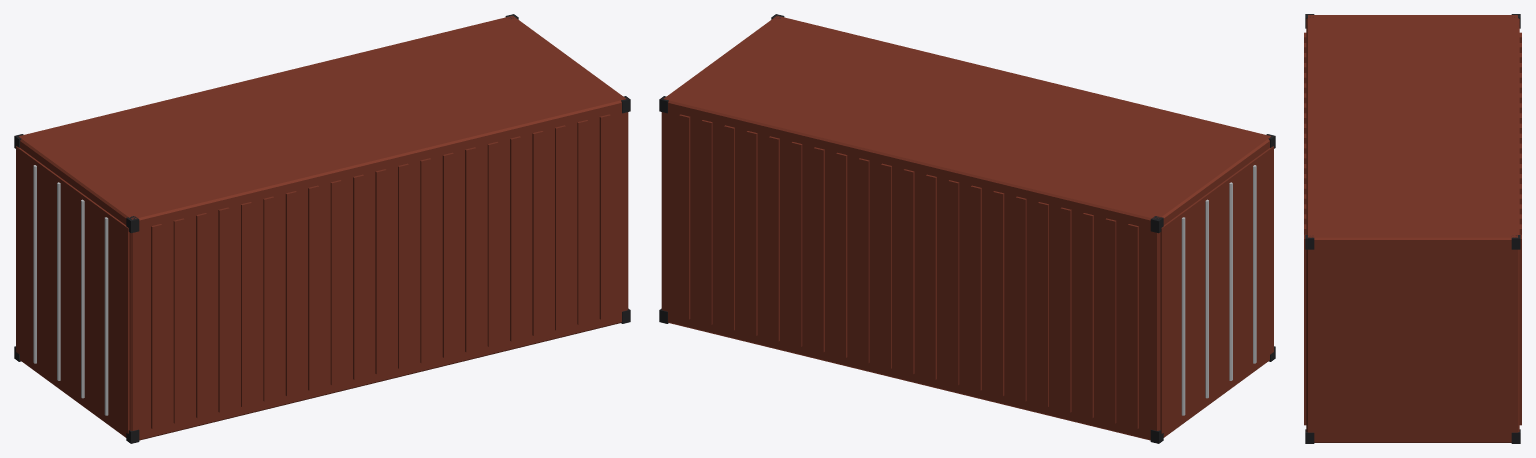
The model's file is container_red.glb.
The picture shows the model from 3 angles, left to right: view 1: azimuth 30°, elevation 25°; view 2: azimuth 150°, elevation 25°; view 3: azimuth 270°, elevation 25°; orthographic projection. The views are drawn at different scales.
Parts seen in each view (by area): view 1: Body_LOD0; view 2: Body_LOD0; view 3: Body_LOD0.
Boxes of the visible parts, x1,y1,x2,y2 form: Body_LOD0: [14, 14, 630, 443]; Body_LOD0: [659, 14, 1275, 443]; Body_LOD0: [1304, 14, 1521, 443].
Size of the model in its own units: 6.12 by 2.59 by 2.49.
